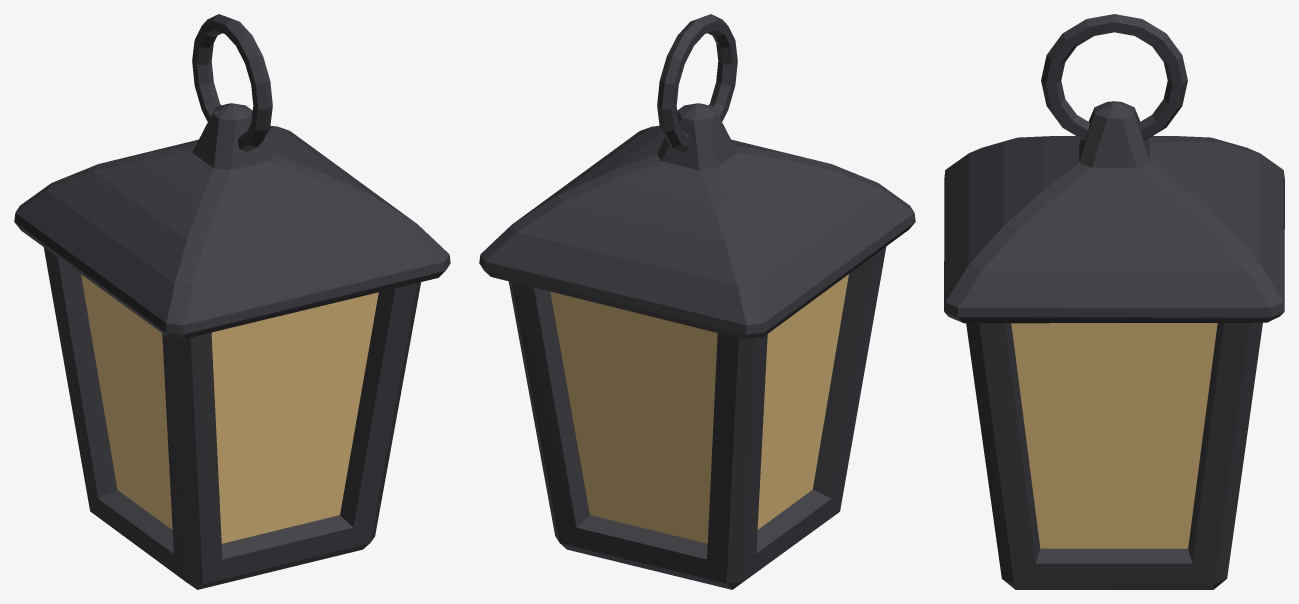
Rendered from Lantern_1.glb.
The picture shows the model from 3 angles, left to right: view 1: azimuth 30°, elevation 25°; view 2: azimuth 150°, elevation 25°; view 3: azimuth 270°, elevation 25°; orthographic projection. The views are drawn at different scales.
Size of the model in its own units: 13.45 by 23.26 by 13.45.
1 material, 1 textured.
